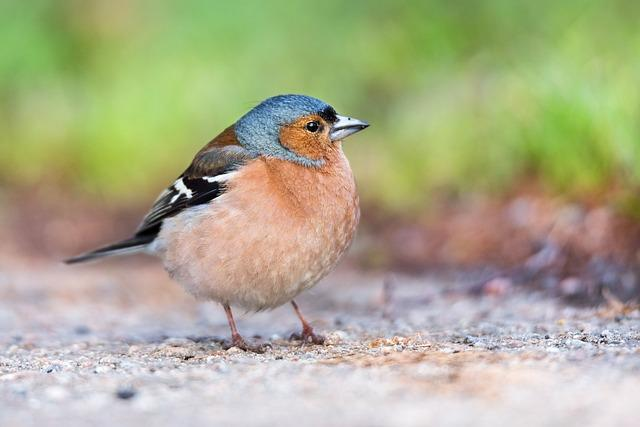bird: (67, 94, 369, 347)
